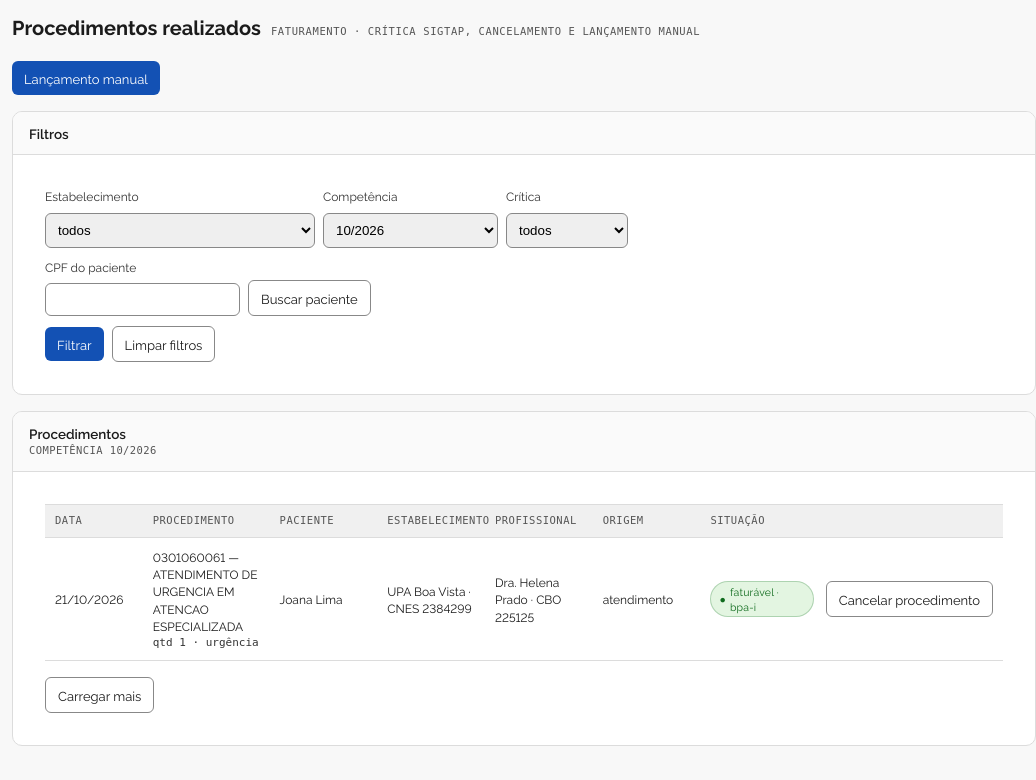
BillingProcedures › invalid_cursor no Carregar mais: avisa e recomeça da 1ª página
Click the button "Carregar mais".
click(100, 696)  # box [45,678,154,714]
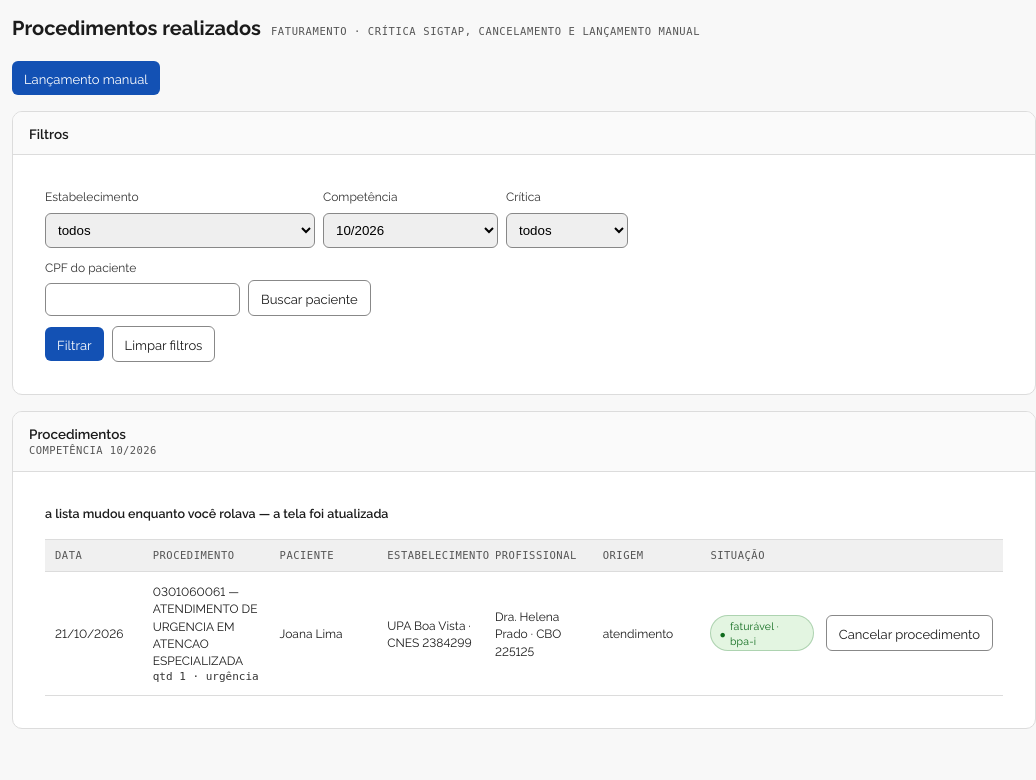
Expected: the text "a lista mudou enquanto você rolava — a tela foi atualizada" is shown, [45,504,388,521]
